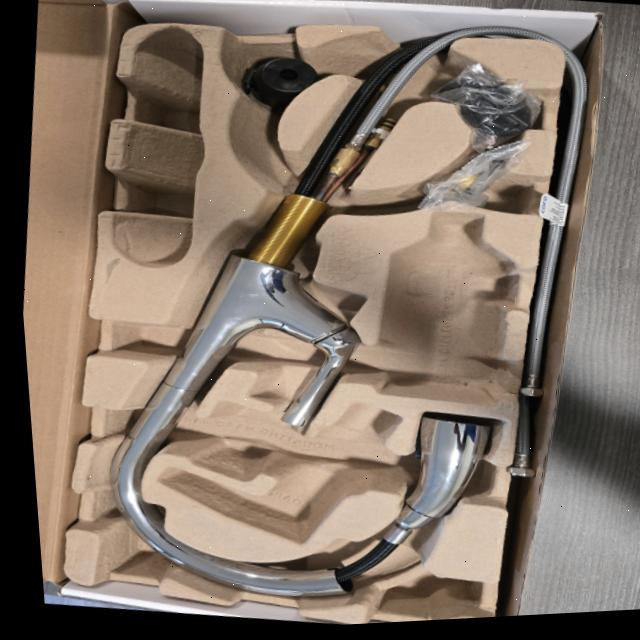1: (107, 35, 494, 596)
2m: (157, 400, 397, 543)
3m: (379, 209, 517, 402)
4m: (113, 23, 203, 265)
5: (240, 53, 320, 106)
6: (420, 139, 524, 208)
7: (433, 61, 542, 155)
